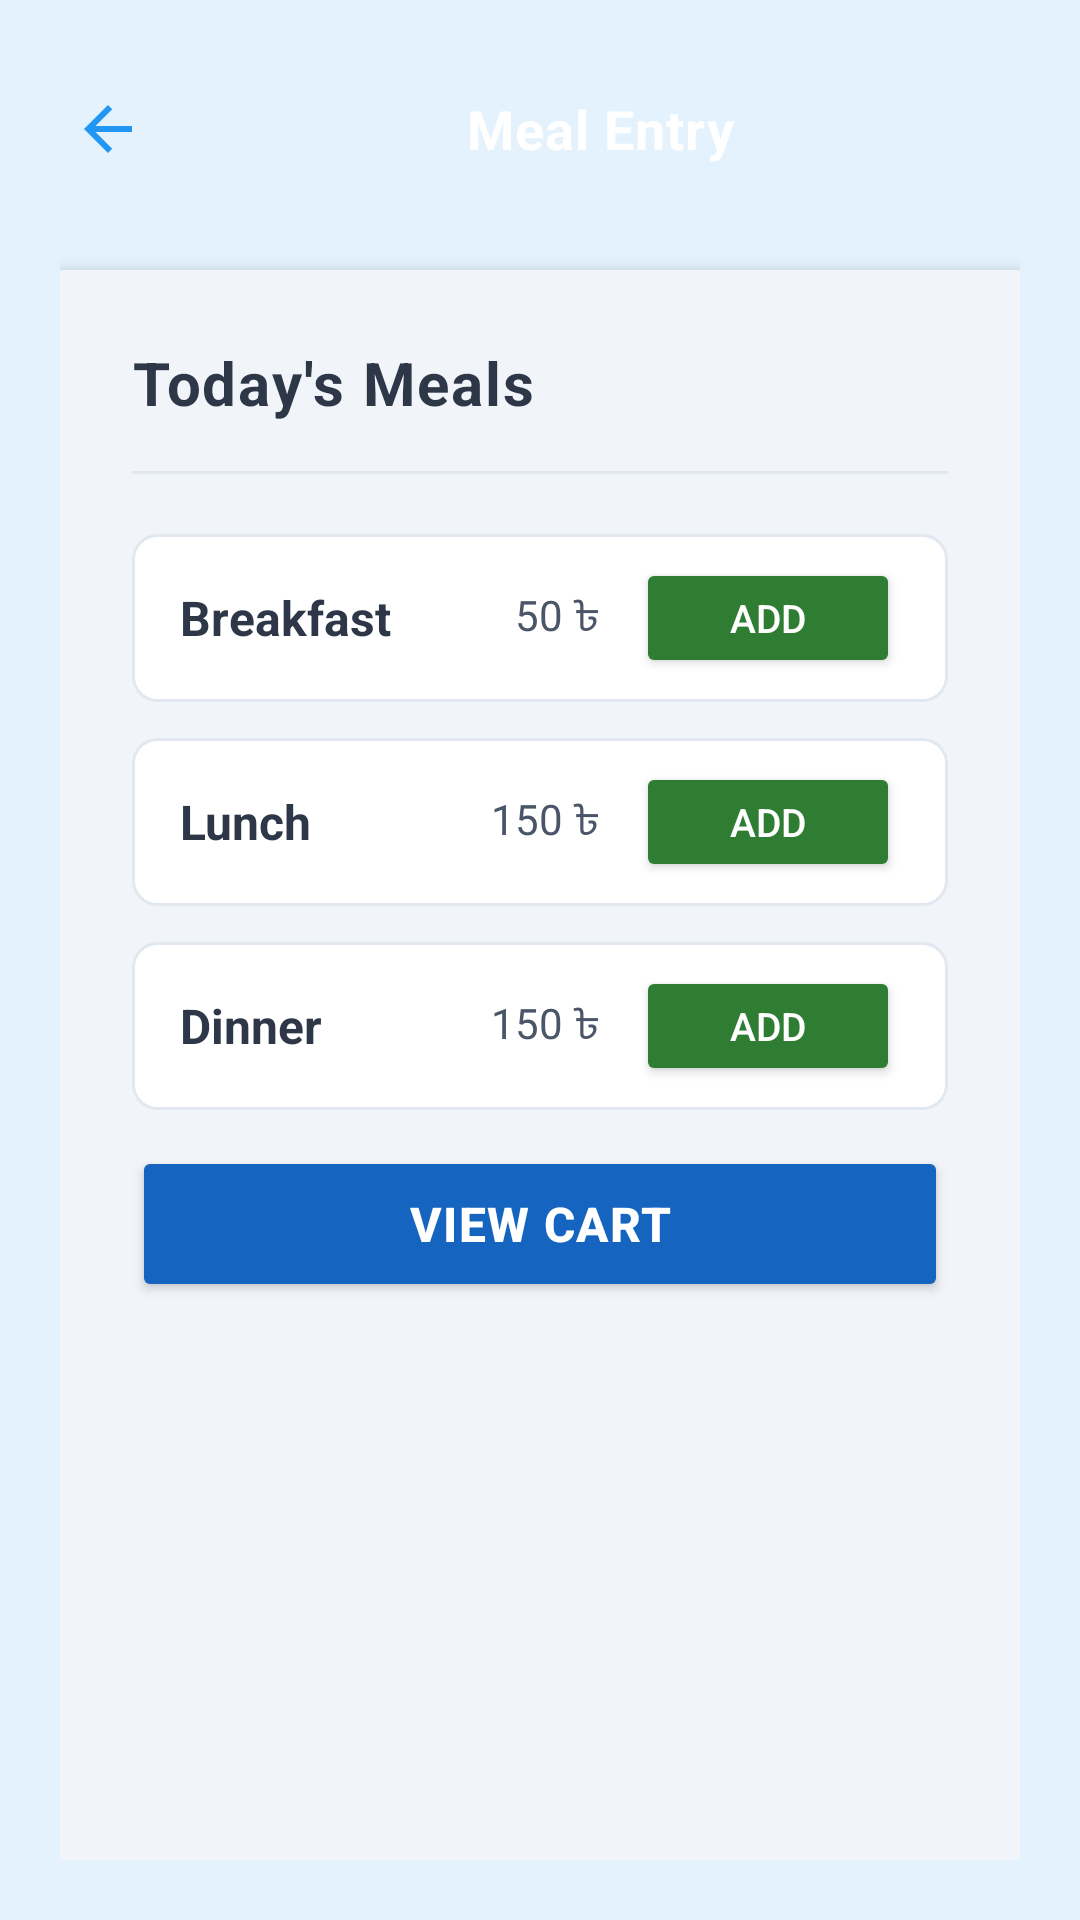

Screen size 1080*1920. Icon name, then its center in pixels as (x=x, y=y):
arrow back: (x=108, y=129)
